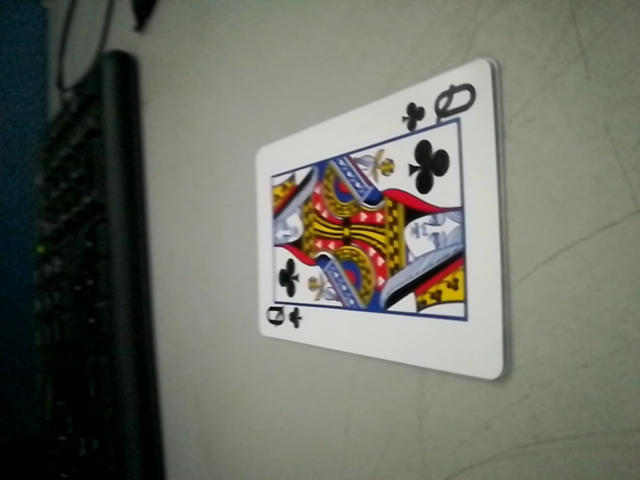mh q: (403, 78, 482, 133), (259, 296, 311, 336)
